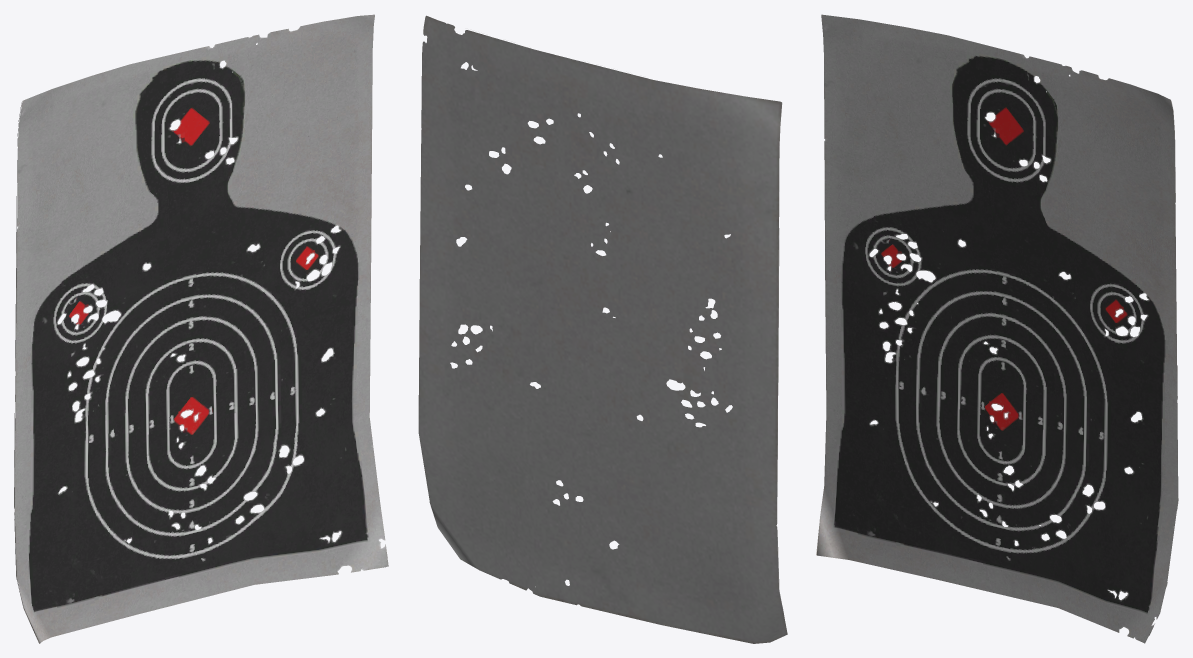
File: SM_Paper_Targets_01e.glb
The picture shows the model from 3 angles, left to right: view 1: azimuth 30°, elevation 25°; view 2: azimuth 150°, elevation 25°; view 3: azimuth 330°, elevation 25°; orthographic projection. The views are drawn at different scales.
Parts seen in each view (by area): view 1: SM_Paper_Targets_01e; view 2: SM_Paper_Targets_01e; view 3: SM_Paper_Targets_01e.
Boxes of the visible parts, x1,y1,x2,y2 form: SM_Paper_Targets_01e: (14,14,388,643); SM_Paper_Targets_01e: (418,15,787,643); SM_Paper_Targets_01e: (816,14,1178,643).
Size of the model in its own units: 0.6603 by 0.9675 by 0.0968.
1 material, 1 textured.
